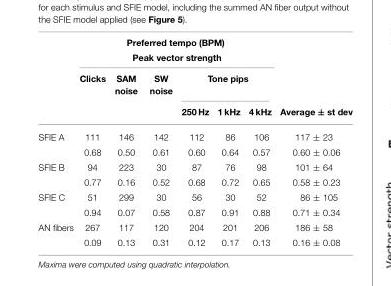table: (37, 37, 351, 246)
table column: (275, 37, 351, 246), (37, 37, 75, 246), (176, 37, 212, 246), (75, 37, 109, 246), (142, 37, 176, 246), (109, 37, 142, 246), (243, 37, 275, 246), (212, 37, 243, 246)
table column header: (37, 37, 351, 124)
table row: (37, 68, 351, 101), (37, 101, 351, 124), (37, 124, 351, 144), (37, 49, 351, 68), (37, 144, 351, 159), (37, 159, 351, 174), (37, 174, 351, 189), (37, 189, 351, 204), (37, 204, 351, 219), (37, 219, 351, 234), (37, 37, 351, 49), (37, 234, 351, 246)
table spanning cell: (275, 37, 351, 124), (75, 37, 275, 68), (176, 68, 275, 101), (75, 68, 109, 124), (142, 68, 176, 124), (109, 68, 142, 124), (37, 124, 75, 159), (37, 159, 75, 189), (37, 189, 75, 219), (37, 219, 75, 246)
